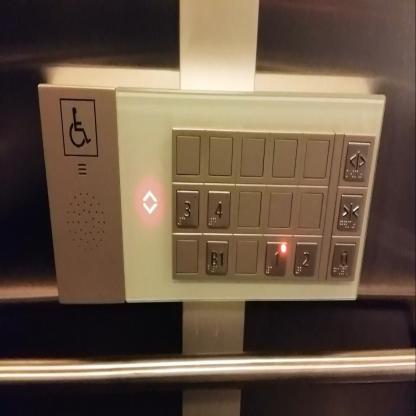1: (262, 237, 290, 282)
2: (292, 238, 319, 283)
3: (173, 187, 201, 232)
4: (204, 187, 232, 232)
B1: (205, 237, 230, 281)
CH: (57, 96, 99, 161)
alarm: (329, 240, 357, 282)
close: (336, 192, 364, 238)
empty: (297, 185, 325, 233), (238, 132, 266, 180), (207, 130, 235, 178), (175, 131, 203, 179), (172, 230, 200, 278), (267, 184, 294, 233), (302, 134, 329, 182), (271, 133, 298, 181), (235, 185, 262, 233), (233, 232, 260, 280)
open: (342, 137, 371, 184)
